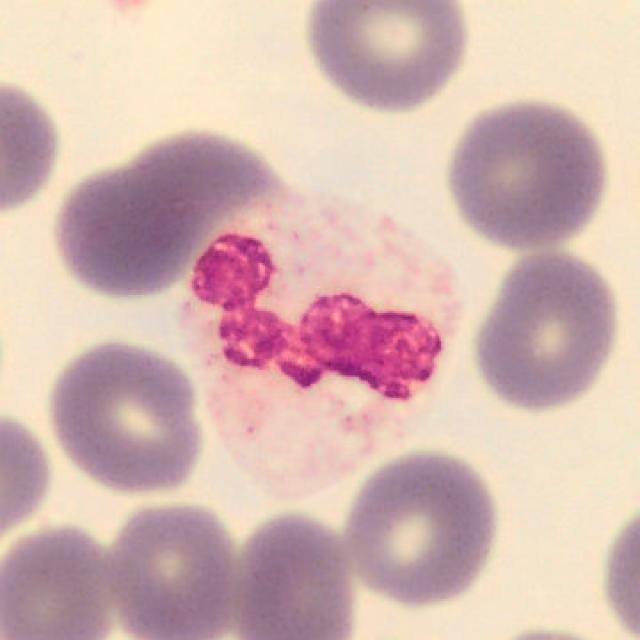Neutrofilo segmentado: (178, 187, 466, 503)
